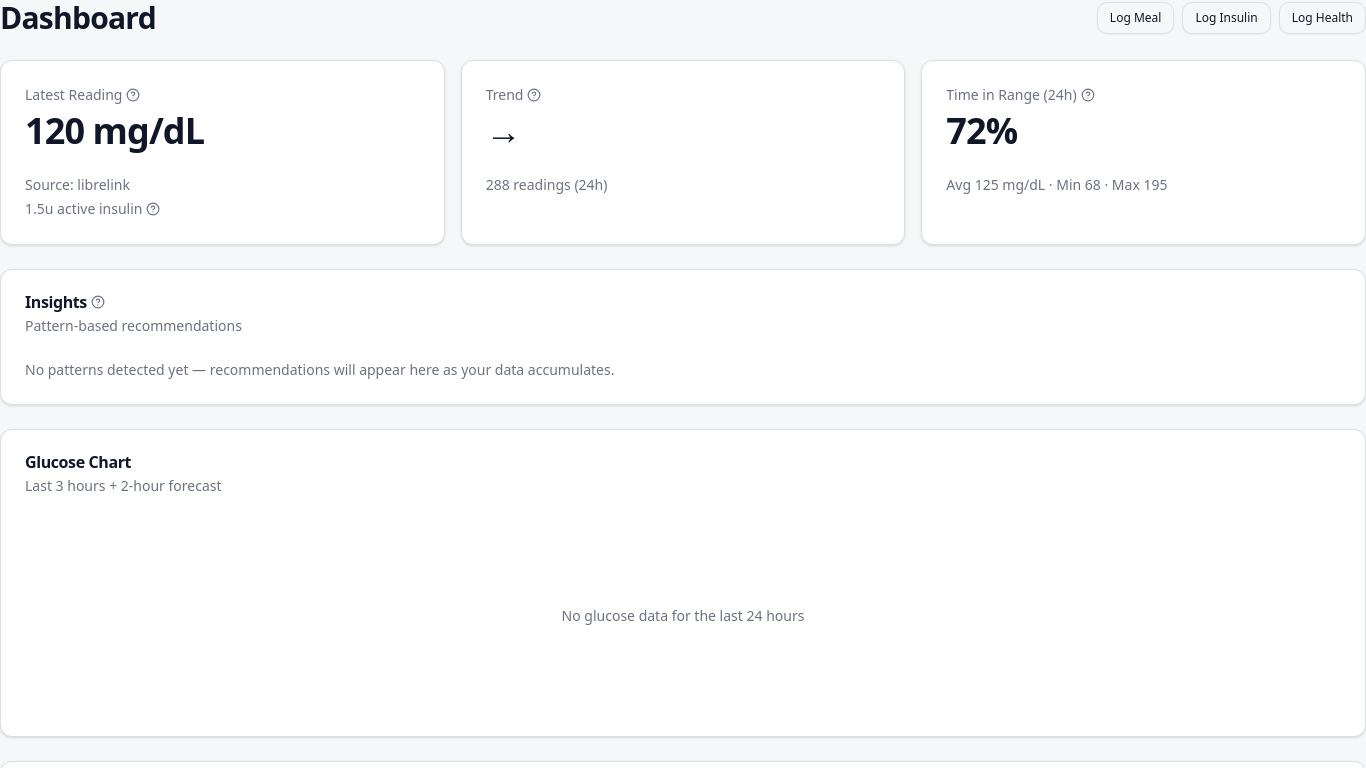
Dashboard — help elements (#86) › opens blood glucose popover on click
Click the button named "help: blood glucose".
click(134, 95)  # box [126,88,140,102]
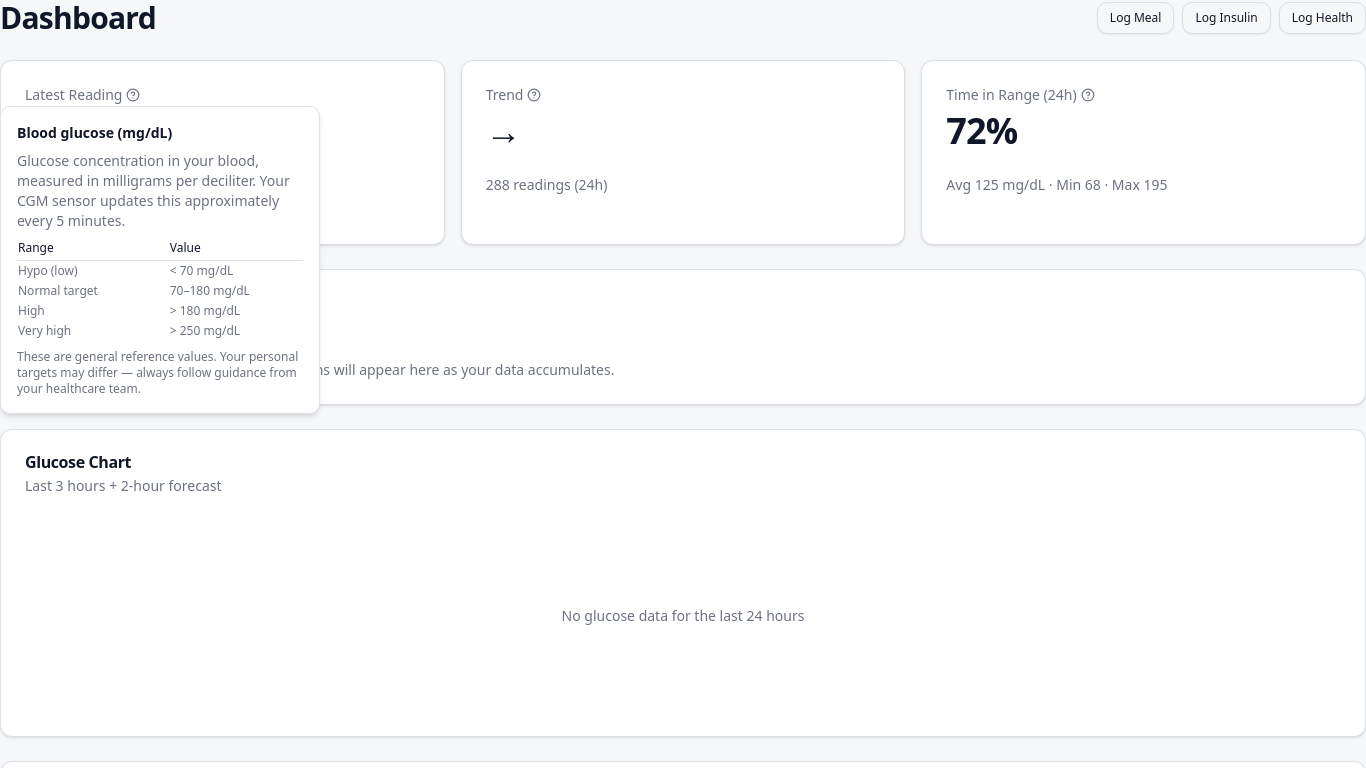
Check: the text "milligrams per deciliter" is shown, box [17,151,290,230]
